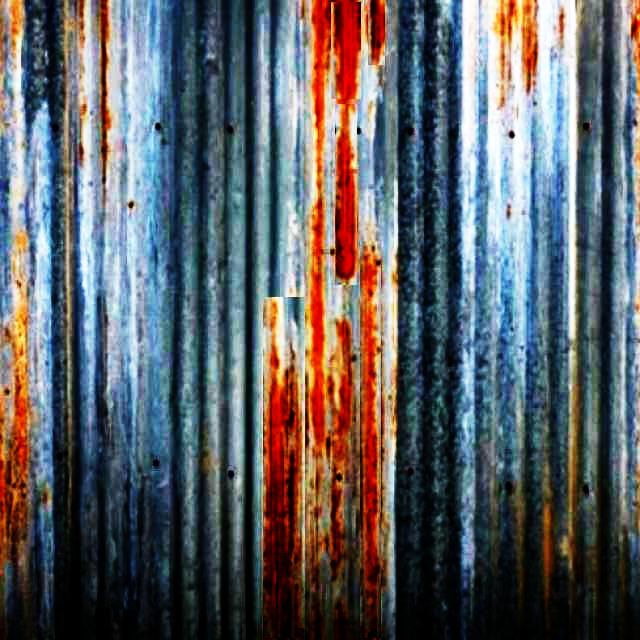Corrosion: (264, 0, 396, 640)
